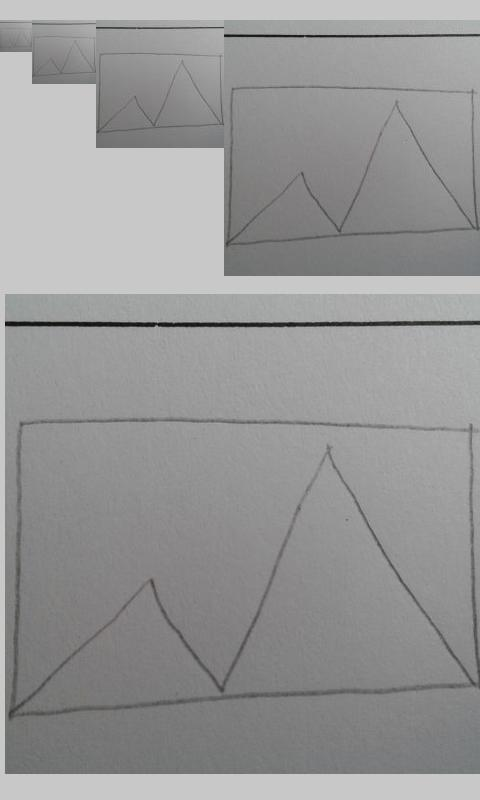image_view: (12, 414, 480, 721), (226, 84, 480, 249), (97, 52, 224, 134), (32, 35, 96, 77), (1, 27, 32, 49)
